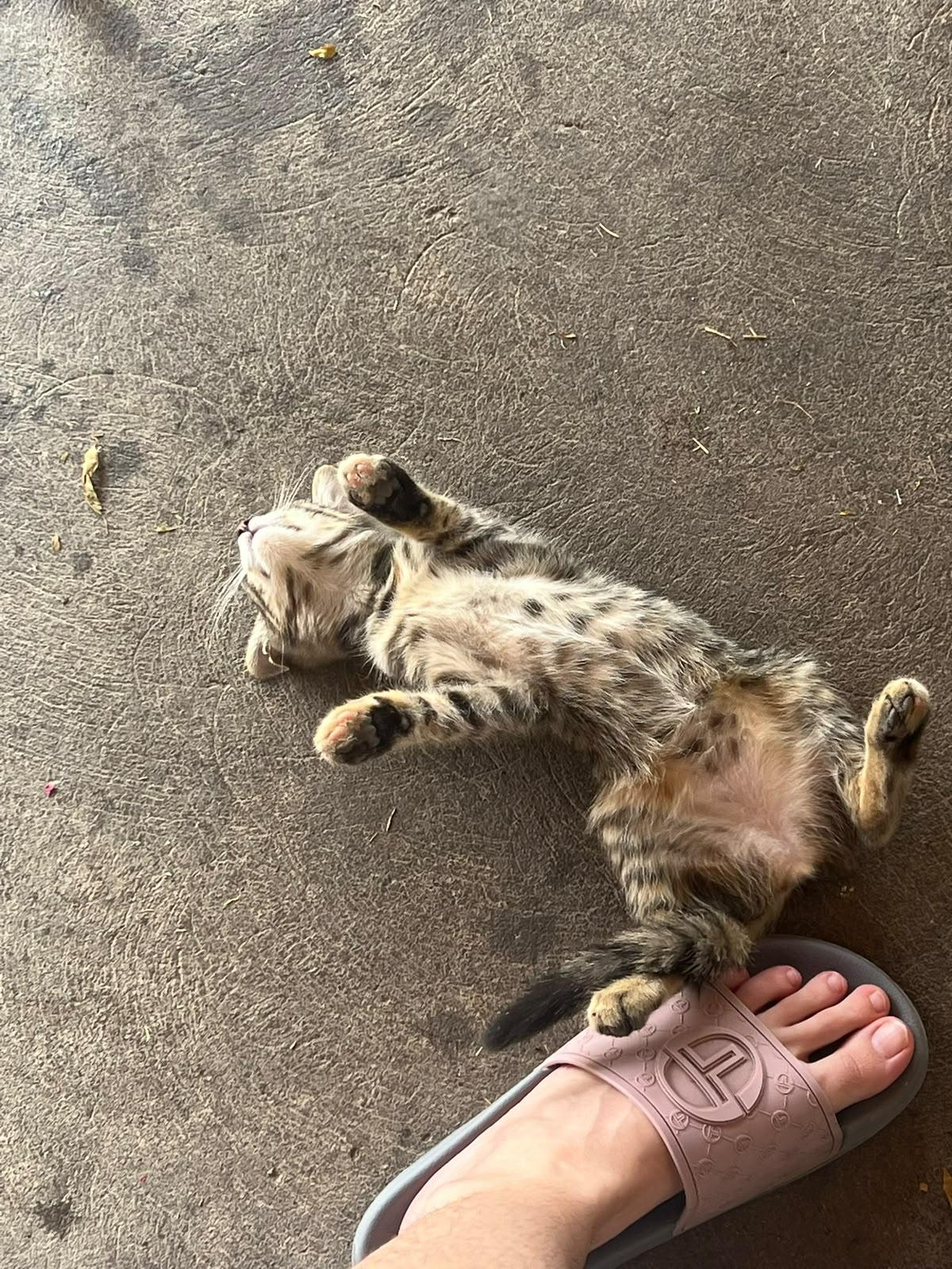macka: (229, 455, 936, 1040)
